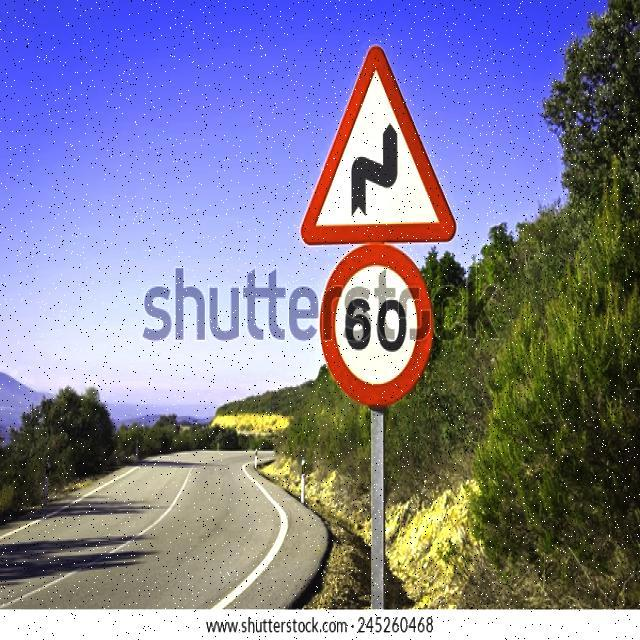Traffic sign: (294, 38, 460, 416)
